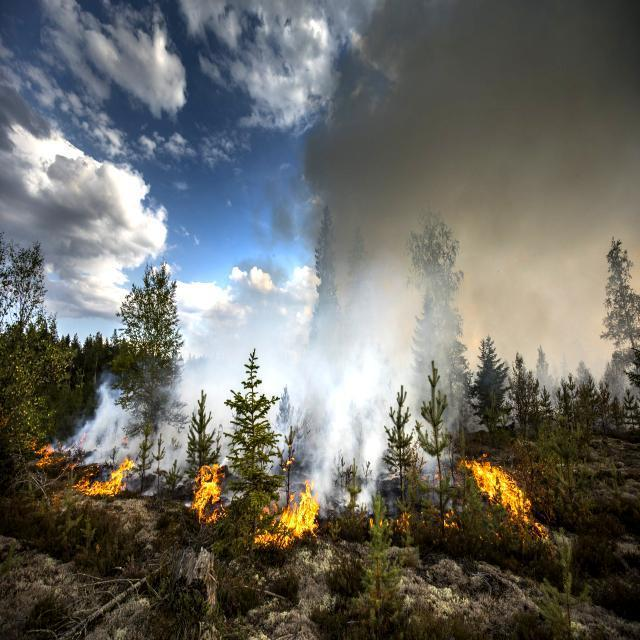Fire: (459, 450, 538, 531), (266, 474, 322, 548), (72, 454, 136, 502), (188, 458, 228, 528)
Smoke: (297, 0, 640, 490), (76, 289, 312, 486)
